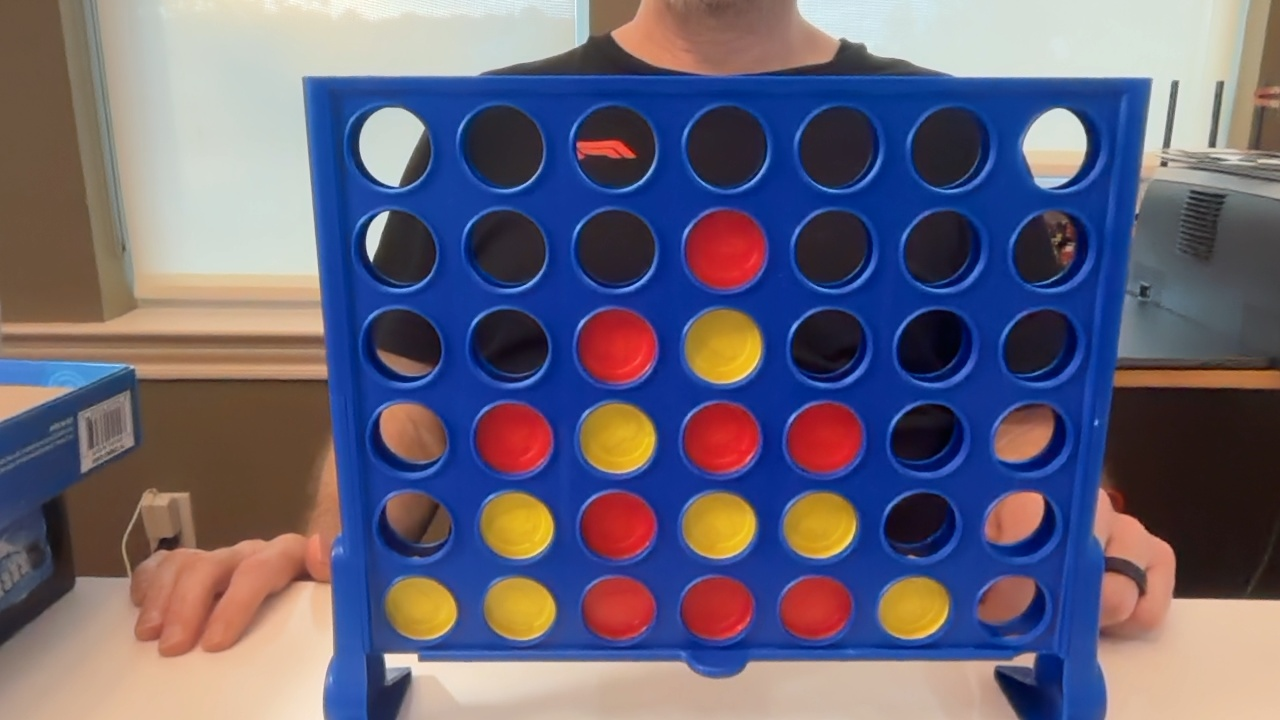red piece: (685, 209, 766, 290), (578, 308, 656, 383), (786, 402, 863, 474), (476, 402, 552, 474), (683, 402, 760, 473), (580, 491, 656, 560), (680, 576, 754, 641), (582, 576, 655, 641), (780, 576, 852, 641)
yellow piece: (684, 308, 762, 383), (579, 402, 656, 473), (783, 491, 857, 559), (479, 492, 554, 559), (682, 492, 756, 559), (484, 577, 556, 641), (384, 577, 457, 640), (879, 576, 950, 639)
